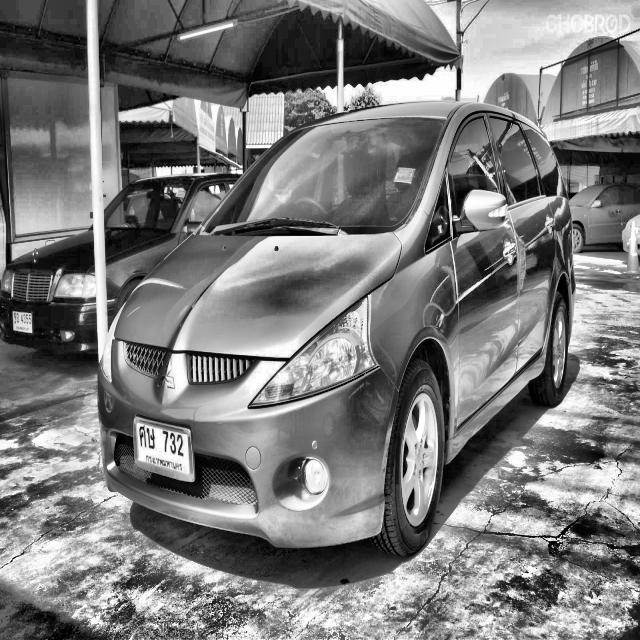license-plate: (128, 410, 198, 494)
